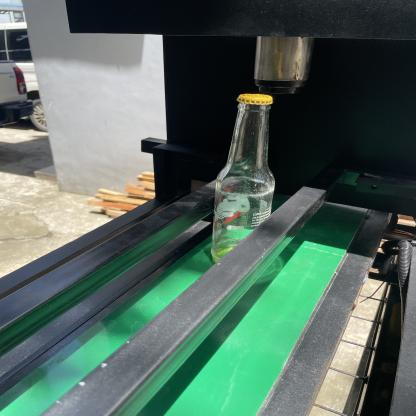Can: (205, 91, 278, 295)
